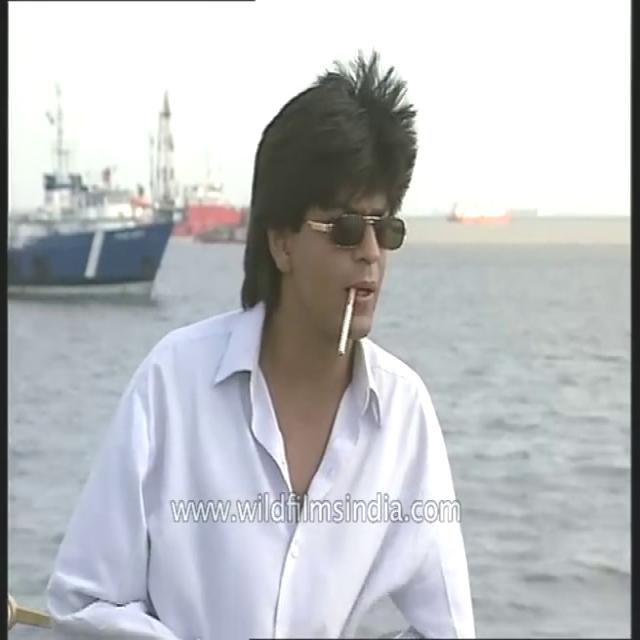Smooking: (332, 286, 360, 360)
